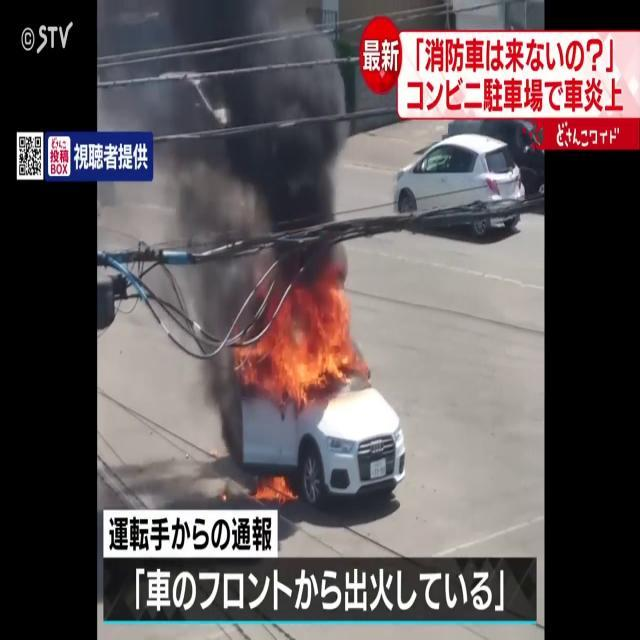Fire: (250, 280, 363, 404)
Smoke: (98, 0, 363, 296)
